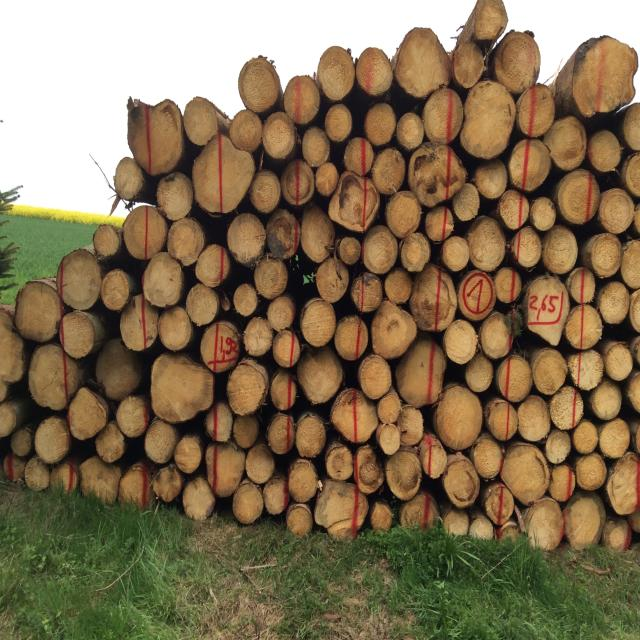wood-log: (570, 35, 637, 116), (193, 136, 256, 216), (152, 354, 215, 425), (462, 79, 516, 157), (127, 100, 183, 174), (396, 29, 452, 99), (410, 146, 468, 209), (396, 334, 448, 404), (26, 341, 80, 408), (410, 264, 458, 333), (436, 387, 485, 452), (527, 276, 570, 346), (93, 337, 141, 399), (317, 480, 371, 534), (330, 178, 381, 235), (13, 280, 61, 340), (496, 32, 544, 92), (502, 442, 549, 503), (58, 251, 104, 311), (330, 391, 380, 445), (372, 300, 418, 358), (297, 349, 344, 405), (556, 171, 602, 227), (124, 203, 169, 259), (422, 89, 464, 147), (510, 137, 554, 192), (227, 361, 269, 416), (120, 294, 159, 353), (142, 252, 183, 308), (199, 322, 241, 376), (546, 116, 588, 170), (238, 60, 280, 114), (468, 217, 508, 272), (66, 388, 108, 440), (318, 45, 356, 101), (228, 213, 268, 266), (566, 495, 605, 549), (298, 201, 333, 261), (81, 455, 122, 506), (607, 453, 640, 516), (520, 86, 559, 139), (0, 310, 25, 390), (443, 454, 480, 507), (354, 47, 393, 97), (385, 447, 422, 499), (527, 497, 563, 550), (284, 76, 322, 125), (461, 270, 498, 320), (266, 207, 300, 261), (361, 225, 398, 274), (183, 98, 220, 147), (564, 303, 603, 349), (494, 353, 532, 400), (212, 442, 245, 496), (168, 218, 205, 266), (36, 416, 73, 463), (158, 172, 195, 219), (385, 190, 422, 237), (453, 39, 487, 90), (302, 298, 338, 346), (544, 226, 580, 274), (263, 112, 298, 161), (530, 348, 568, 393), (60, 313, 96, 360), (159, 305, 196, 350), (335, 316, 371, 362), (372, 148, 407, 195), (281, 157, 315, 205), (357, 353, 392, 399), (315, 256, 349, 303), (480, 311, 514, 358), (195, 245, 232, 288), (600, 190, 636, 234), (181, 475, 216, 520), (253, 255, 287, 300), (444, 320, 478, 365), (472, 0, 509, 41), (117, 396, 153, 438), (550, 387, 585, 430), (121, 465, 153, 512), (589, 232, 621, 279), (598, 282, 632, 326), (518, 396, 550, 442), (296, 414, 328, 460), (354, 445, 384, 494), (349, 272, 384, 314), (144, 419, 177, 463), (587, 130, 621, 172), (230, 108, 264, 150), (482, 481, 515, 524), (115, 158, 147, 202), (249, 170, 281, 213), (366, 102, 397, 146), (289, 458, 320, 502), (473, 436, 504, 479), (590, 382, 623, 422), (187, 286, 220, 326), (475, 160, 508, 200), (402, 491, 436, 529), (574, 351, 606, 391), (204, 401, 234, 443), (233, 481, 263, 523), (101, 269, 131, 311), (95, 422, 126, 462), (514, 225, 542, 269), (344, 136, 375, 175), (247, 444, 277, 484), (497, 189, 527, 229), (401, 232, 431, 272), (243, 316, 273, 356), (576, 452, 608, 489), (566, 266, 596, 305), (273, 329, 303, 368), (487, 400, 516, 440), (606, 341, 636, 379), (601, 418, 631, 456), (450, 184, 480, 222), (302, 127, 331, 166), (326, 102, 354, 142), (268, 415, 295, 456), (466, 353, 495, 391), (325, 444, 354, 482), (424, 206, 453, 244), (174, 436, 202, 475), (270, 370, 296, 412), (268, 295, 298, 331), (397, 406, 424, 446), (397, 113, 425, 151), (384, 268, 413, 304), (549, 463, 576, 501), (264, 475, 290, 514), (443, 236, 471, 272), (493, 268, 521, 304), (154, 466, 182, 502), (605, 517, 633, 552), (92, 224, 120, 259), (621, 241, 640, 291), (233, 414, 260, 449), (286, 505, 313, 540), (25, 454, 51, 490), (621, 104, 640, 153), (545, 430, 572, 464), (377, 389, 403, 424), (442, 507, 470, 539), (233, 283, 260, 316), (315, 161, 339, 198), (573, 422, 599, 456), (531, 197, 556, 231), (622, 153, 640, 198), (378, 424, 402, 456), (371, 500, 395, 531), (338, 235, 362, 265), (10, 428, 33, 458), (1, 453, 24, 482), (0, 401, 18, 438), (471, 516, 496, 542), (626, 369, 640, 413), (630, 290, 640, 331), (630, 508, 640, 534), (633, 421, 640, 454)
